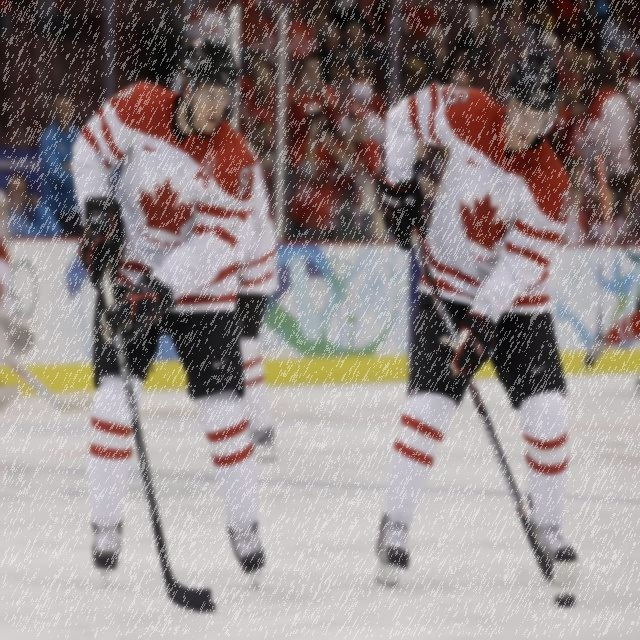pessoa: (0, 0, 639, 242), (61, 29, 270, 592), (372, 43, 586, 591), (234, 130, 282, 467), (288, 99, 356, 244), (36, 89, 85, 237), (336, 101, 386, 211), (580, 307, 640, 398), (0, 169, 64, 238), (4, 164, 44, 238)
